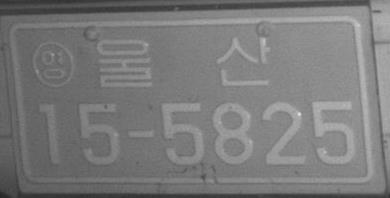1: (30, 103, 68, 163), (126, 125, 156, 142)
2: (261, 100, 307, 165)
5: (159, 101, 206, 167), (310, 99, 356, 165), (77, 102, 119, 165)
8: (210, 100, 254, 166)
영: (31, 39, 75, 89)
울산_D: (95, 35, 272, 89)
